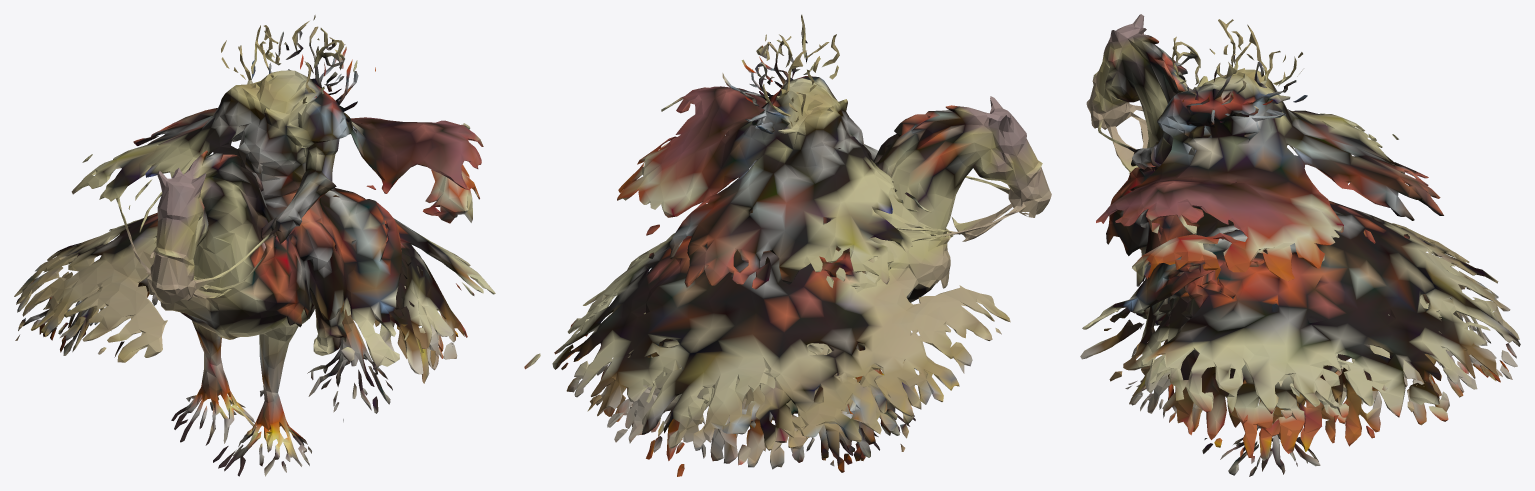
Rendered from blackShadow.glb.
3 renders of one model, left to right at view 1: azimuth 30°, elevation 25°; view 2: azimuth 150°, elevation 25°; view 3: azimuth 270°, elevation 25°, orthographic. The views are drawn at different scales.
Parts seen in each view (by area): view 1: world; view 2: world; view 3: world.
Boxes of the visible parts, x1,y1,x2,y2 form: world: (14, 15, 495, 476); world: (524, 14, 1051, 476); world: (1080, 14, 1520, 476).
Bounding box in the file's own units: 1.02 × 1 × 1.
